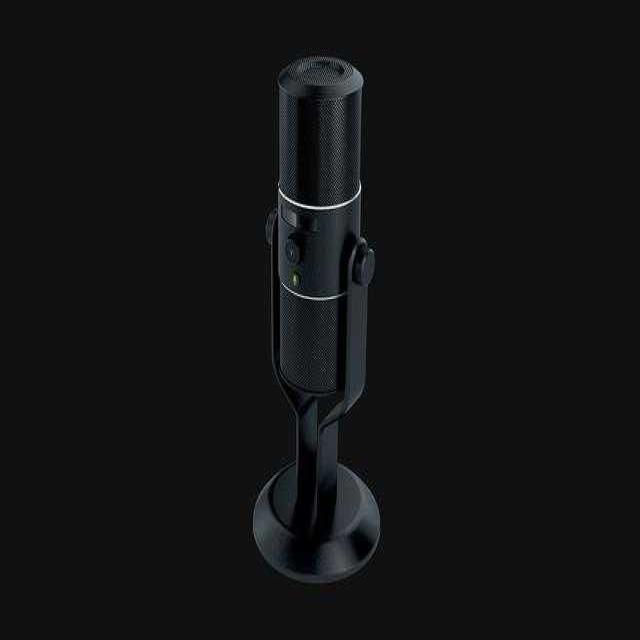microphone: (276, 60, 362, 398)
